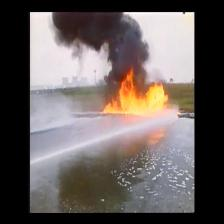fire: (105, 83, 165, 115)
smoke: (56, 12, 131, 43), (108, 48, 143, 74)
